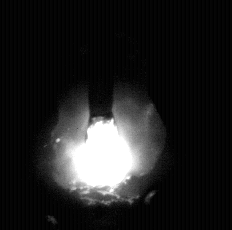arame: (89, 0, 115, 125)
poca: (50, 0, 166, 230)
